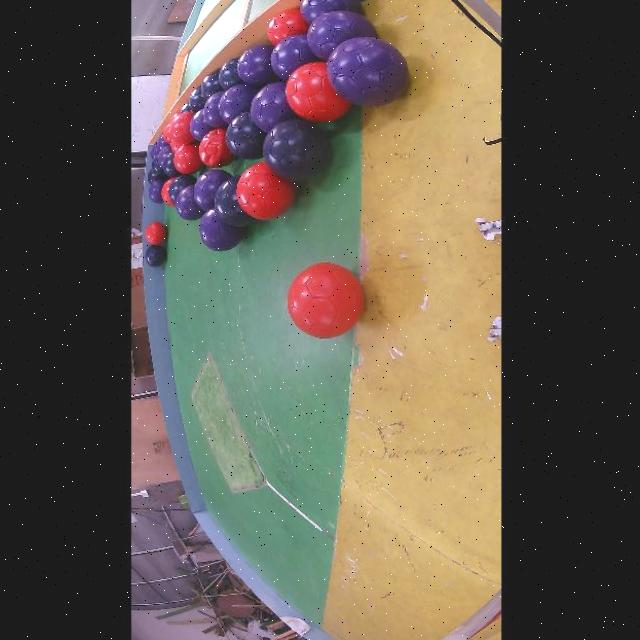B: (261, 120, 329, 182), (213, 176, 253, 227), (223, 112, 264, 160), (217, 57, 242, 90), (167, 174, 195, 202), (199, 71, 221, 99), (160, 152, 180, 178), (144, 245, 164, 266), (187, 88, 204, 112), (146, 169, 162, 184), (150, 158, 163, 175), (177, 103, 190, 113)
P: (325, 36, 406, 107), (306, 11, 376, 61), (249, 81, 297, 133), (268, 34, 318, 80), (198, 209, 243, 251), (235, 45, 275, 86), (192, 169, 230, 211), (298, 0, 360, 25), (217, 84, 255, 124), (173, 185, 203, 220), (201, 92, 226, 129), (187, 108, 213, 140), (146, 179, 163, 203), (155, 144, 170, 167), (147, 144, 158, 160), (155, 135, 166, 149)
R: (285, 263, 362, 339), (284, 62, 349, 121), (235, 162, 294, 220), (264, 9, 307, 45), (196, 129, 234, 167), (172, 144, 201, 174), (168, 112, 194, 144), (144, 221, 165, 245), (159, 178, 173, 206), (160, 124, 169, 144), (169, 139, 181, 152)
